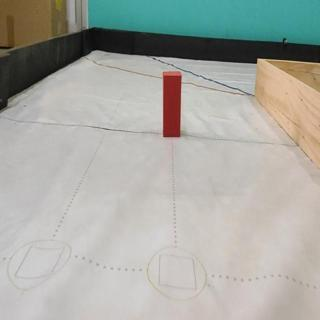redbox: (161, 69, 182, 139)
